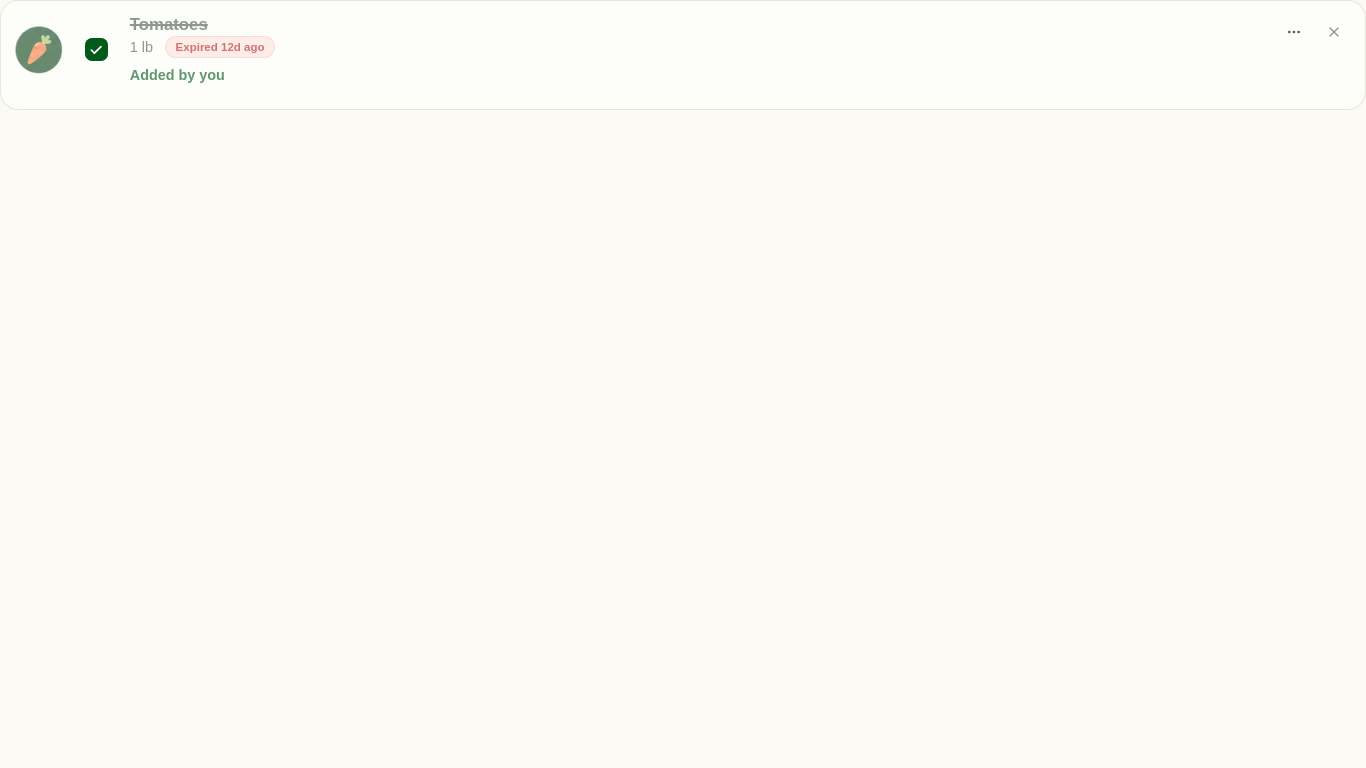
Test case: Grocery expiry › tapping badge reopens sheet
Click the button with aria-label "Expires 2026-08-29".
click(220, 47)  # box x1=165 y1=36 x2=275 y2=58
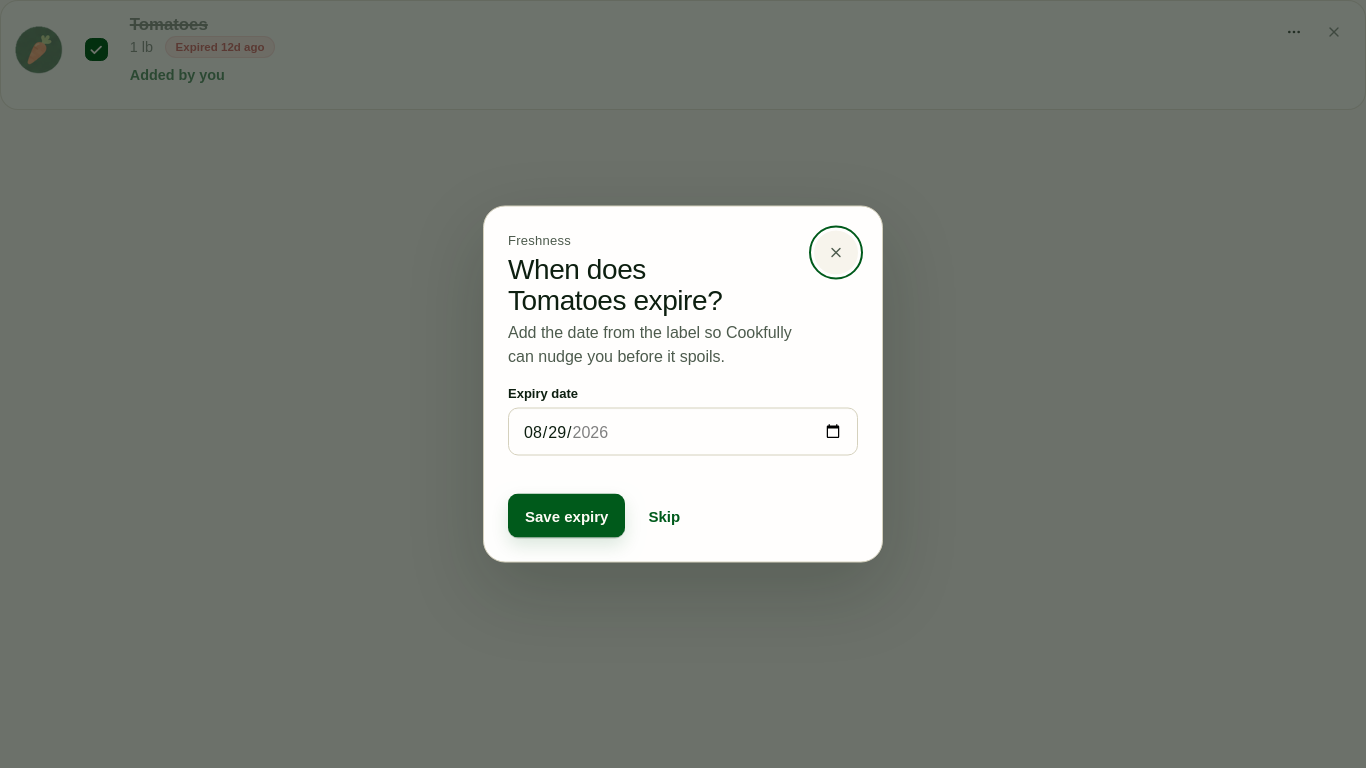
expect the button "Save expiry" is shown: met, box x1=508 y1=494 x2=625 y2=538
